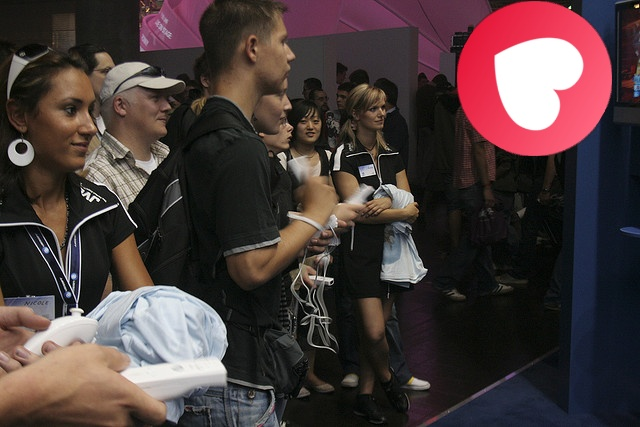love: (457, 1, 612, 156)
